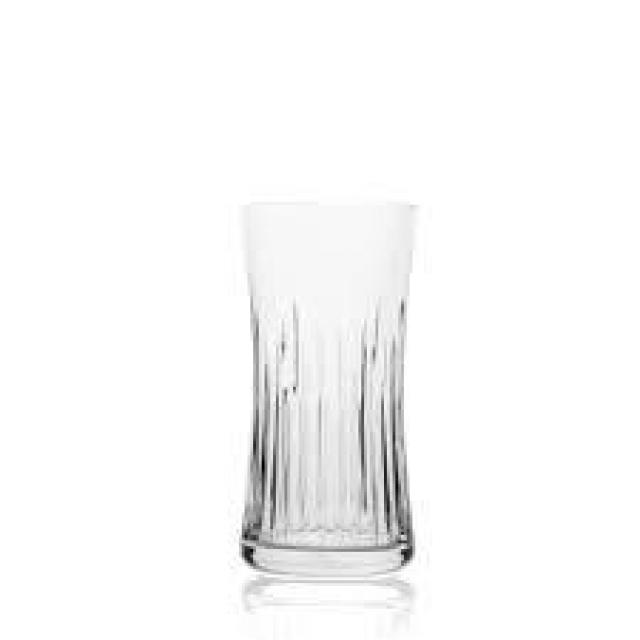non-organic waste: (235, 199, 422, 580)
